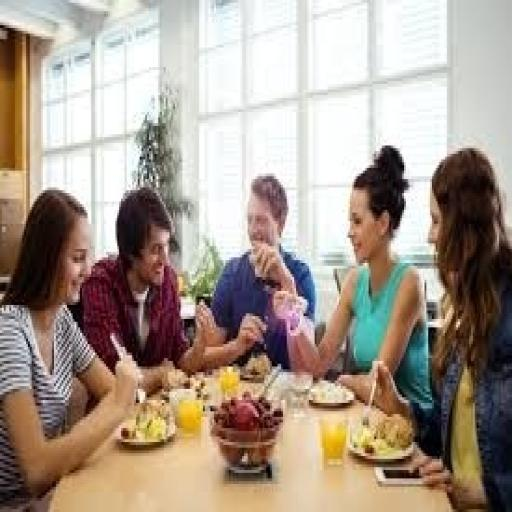eating: (272, 142, 436, 436), (0, 185, 140, 509), (78, 182, 210, 392), (198, 171, 318, 369)
